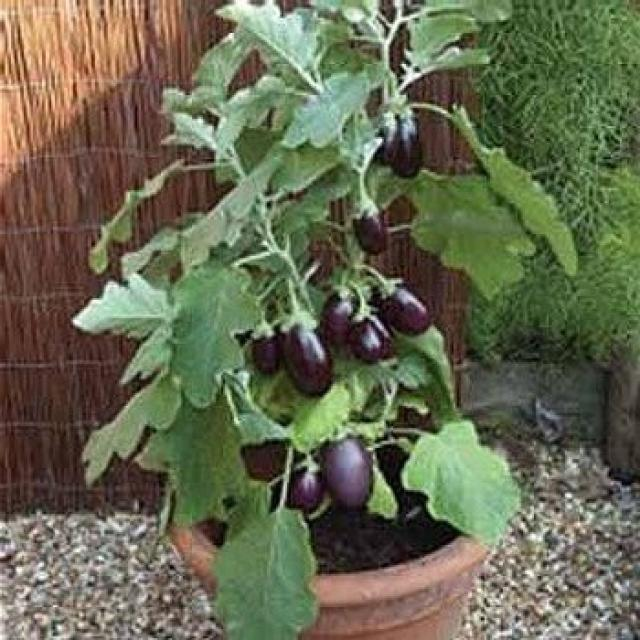brinjal: (73, 0, 578, 639)
